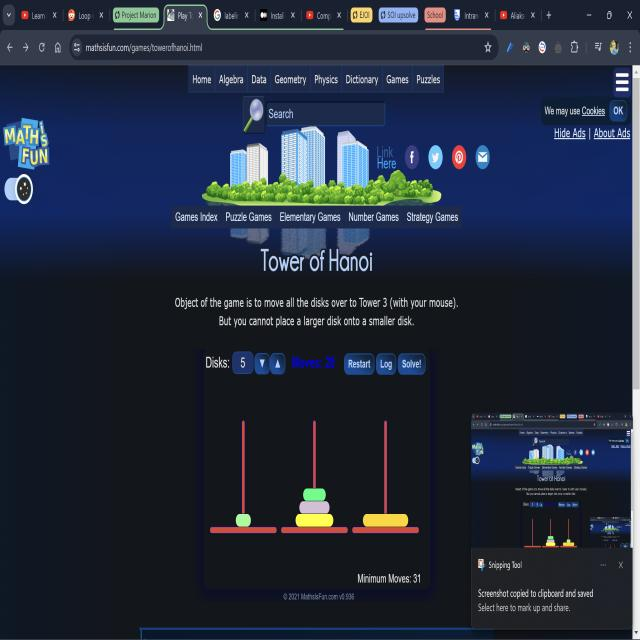disk1: (235, 514, 251, 526)
disk2: (303, 489, 326, 501)
disk3: (299, 501, 329, 513)
disk4: (296, 514, 333, 526)
disk5: (363, 514, 408, 526)
